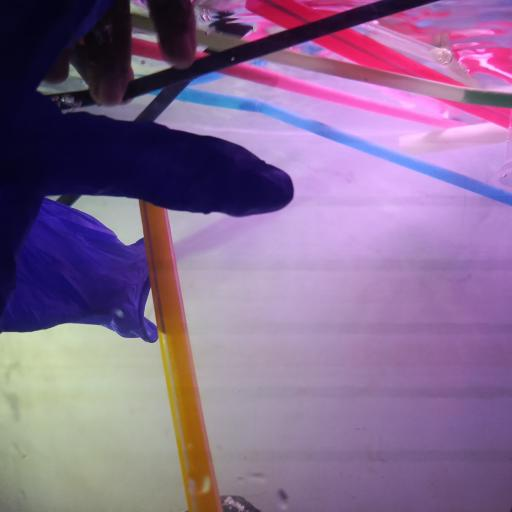glove: (2, 1, 295, 344)
plastic_straw: (43, 0, 436, 113), (150, 85, 512, 207), (129, 10, 512, 108), (131, 39, 465, 131), (139, 196, 223, 512), (55, 73, 195, 209)
